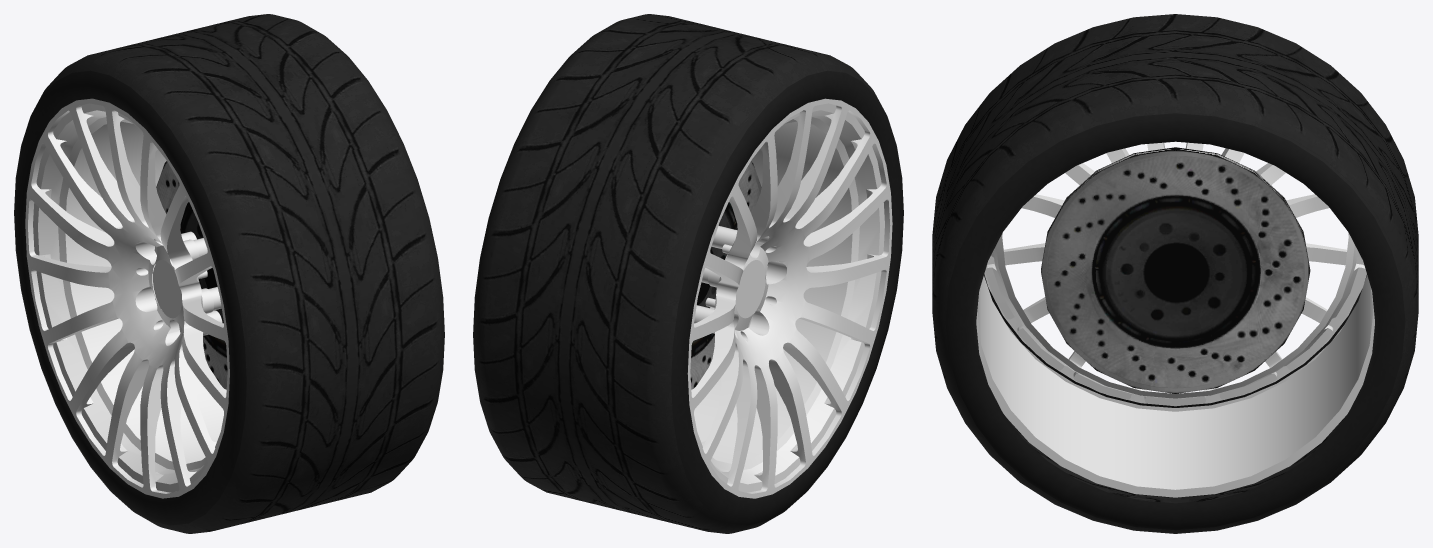
Rendered from 05_AMG.fbx.
3 views of the same model, side by side, from view 1: azimuth 30°, elevation 25°; view 2: azimuth 150°, elevation 25°; view 3: azimuth 270°, elevation 25° (orthographic).
Parts seen in each view (by area): view 1: Combined No Name Object 0, AMG, Combined co_contisportcontact_2_vmax_wall Object 0, Rotor; view 2: Combined No Name Object 0, AMG, Combined co_contisportcontact_2_vmax_wall Object 0, Rotor; view 3: Combined No Name Object 0, Rotor, AMG, Combined co_contisportcontact_2_vmax_wall Object 0.
Part boxes in pixels (left/top/right/bottom): Combined No Name Object 0: left=14, top=14, right=444, bottom=533; AMG: left=25, top=98, right=229, bottom=498; Combined co_contisportcontact_2_vmax_wall Object 0: left=14, top=70, right=246, bottom=525; Rotor: left=156, top=161, right=227, bottom=389; Combined No Name Object 0: left=473, top=14, right=903, bottom=533; AMG: left=687, top=98, right=892, bottom=498; Combined co_contisportcontact_2_vmax_wall Object 0: left=671, top=70, right=903, bottom=525; Rotor: left=690, top=161, right=761, bottom=389; Combined No Name Object 0: left=932, top=14, right=1418, bottom=533; Rotor: left=1041, top=147, right=1310, bottom=393; AMG: left=976, top=142, right=1374, bottom=497; Combined co_contisportcontact_2_vmax_wall Object 0: left=945, top=113, right=1405, bottom=530.
Bounding box in the file's own units: 0.3334 × 0.688 × 0.688.
